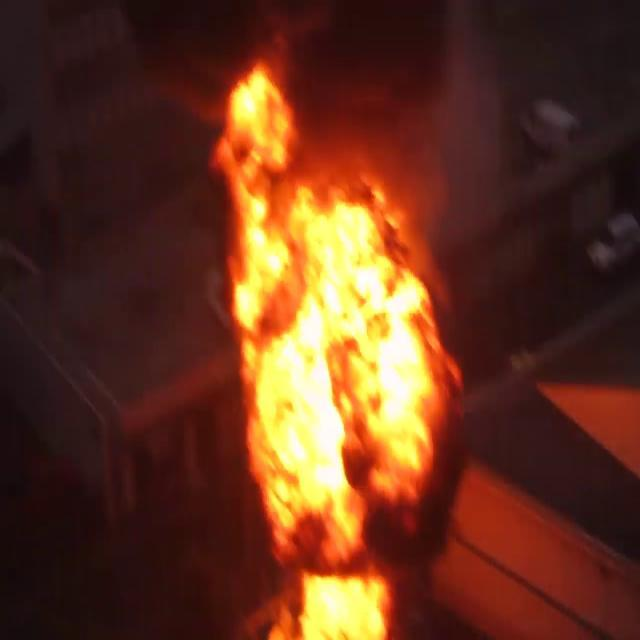Fire: (197, 51, 467, 623)
